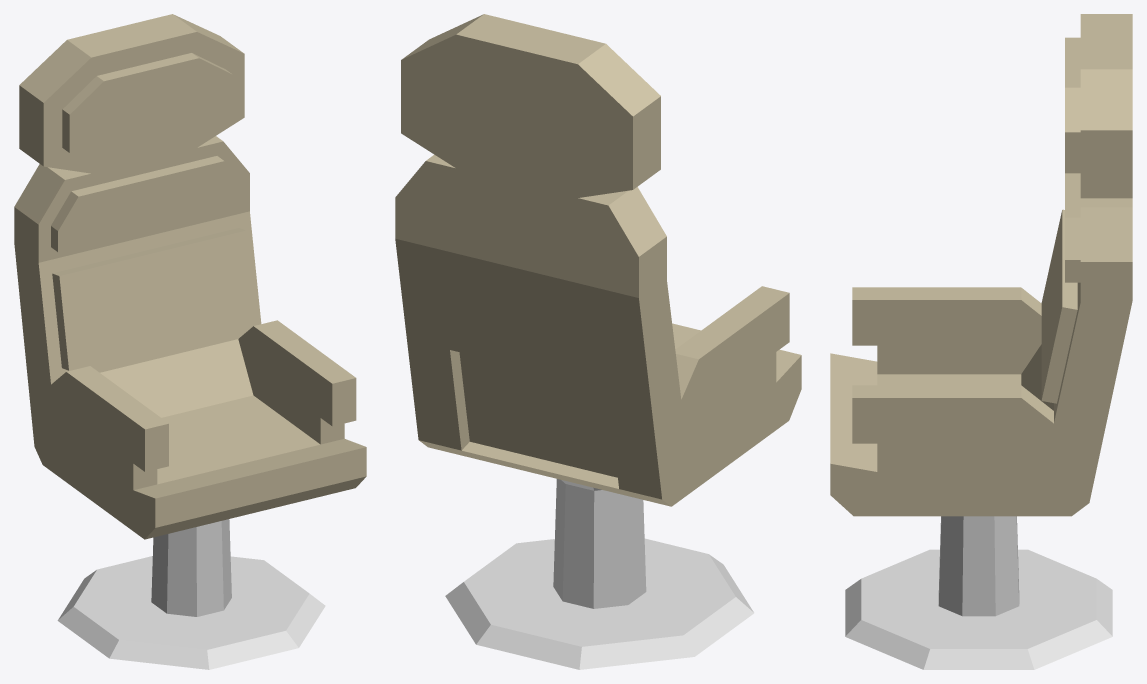
Rendered from SciFi_Modular_Chair_White_02.fbx.
3 renders of one model, left to right at view 1: azimuth 30°, elevation 25°; view 2: azimuth 150°, elevation 25°; view 3: azimuth 270°, elevation 25°, orthographic. The views are drawn at different scales.
Parts seen in each view (by area): view 1: SciFi_Modular_Chair_White_02; view 2: SciFi_Modular_Chair_White_02; view 3: SciFi_Modular_Chair_White_02.
Part boxes in pixels (<box>): SciFi_Modular_Chair_White_02: <box>14,14,366,669</box>; SciFi_Modular_Chair_White_02: <box>395,14,801,669</box>; SciFi_Modular_Chair_White_02: <box>830,14,1132,669</box>.
Bounding box in the file's own units: 702 × 1655 × 794.
